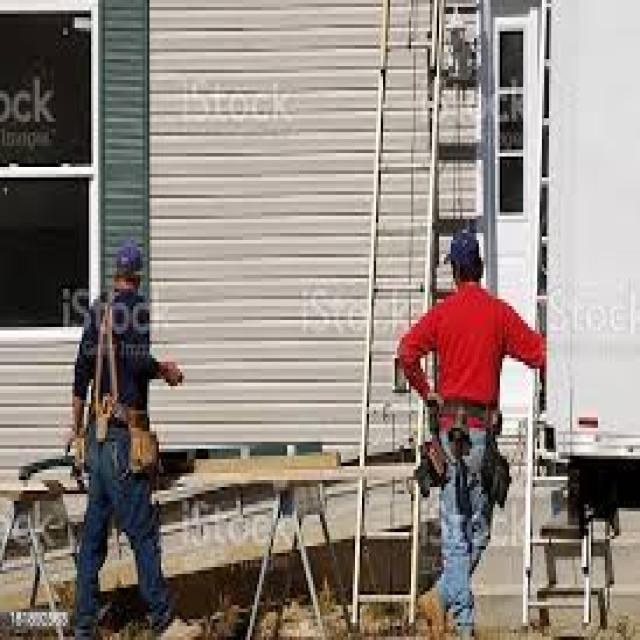Harness: (70, 290, 160, 451)
